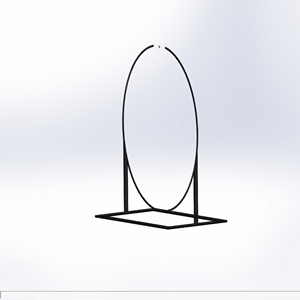circle: (92, 42, 229, 231)
